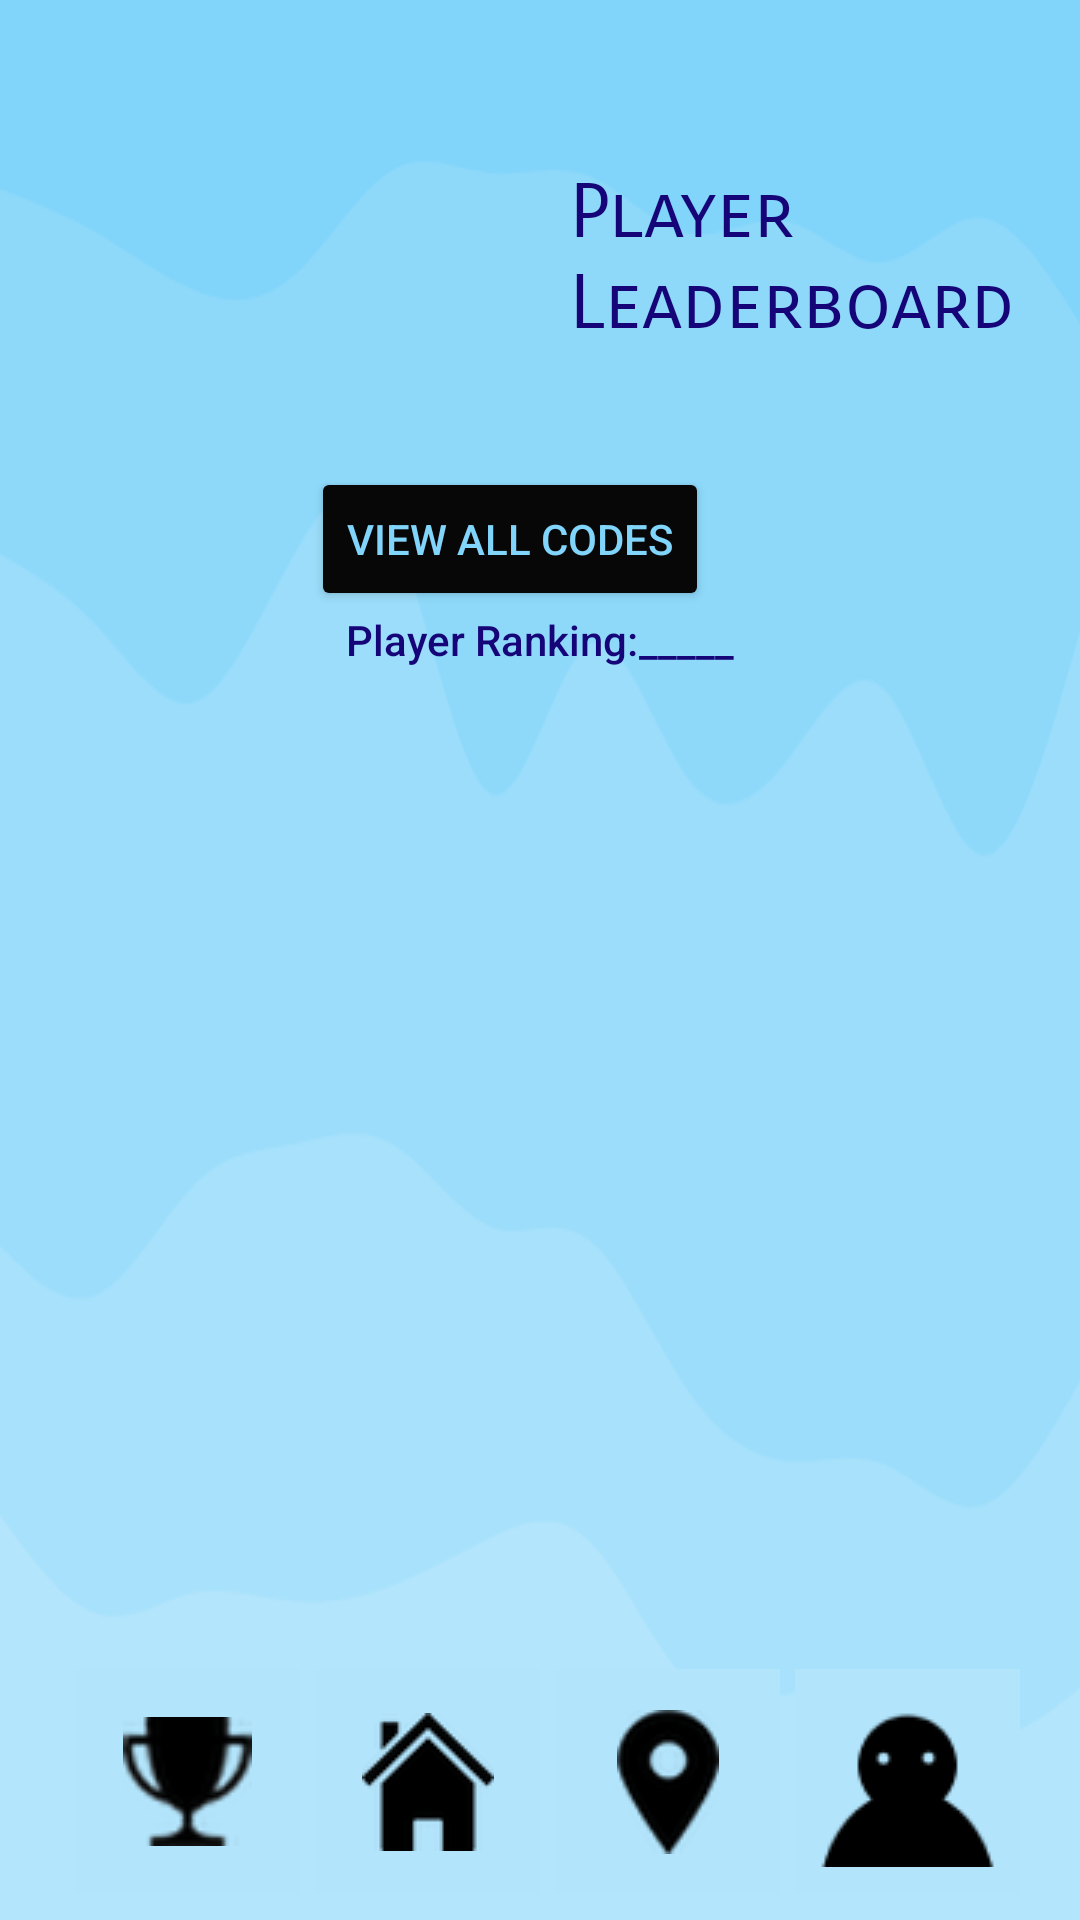

Point at icon controls on the screen. Image size 1080px x 1920px, points as point (x, y).
house: point (428, 1782)
map: point (668, 1782)
trophy: point (187, 1781)
